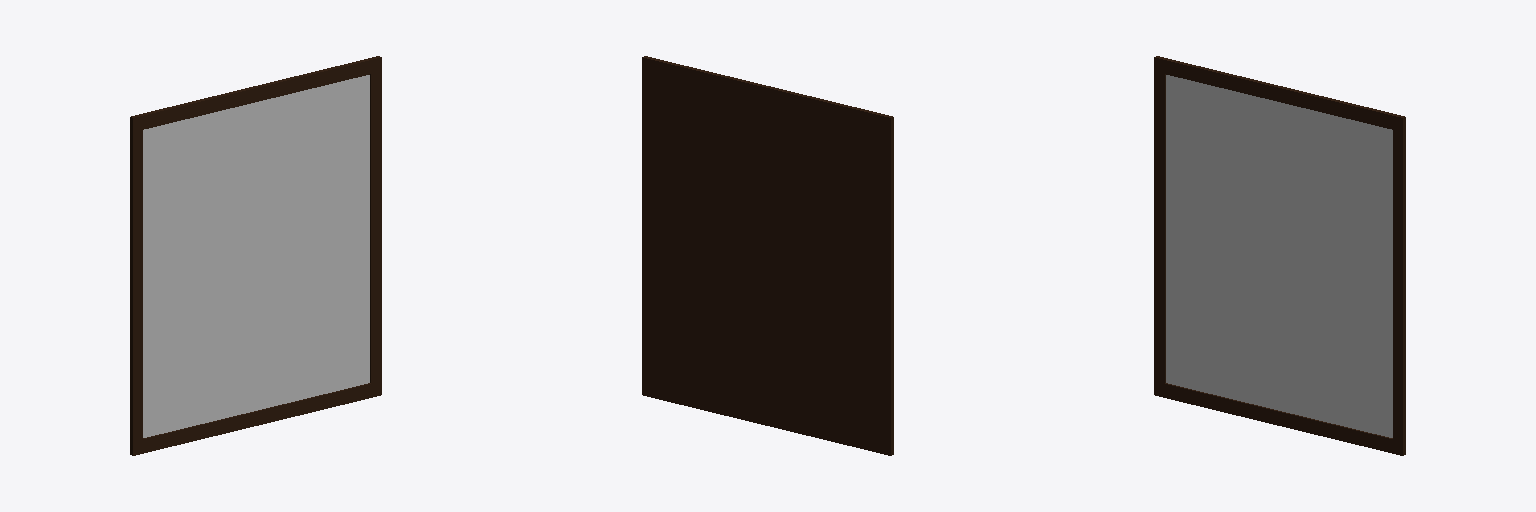
Rendered from pope_inocent.obj.
The picture shows the model from 3 angles: view 1: azimuth 30°, elevation 25°; view 2: azimuth 150°, elevation 25°; view 3: azimuth 330°, elevation 25°; orthographic projection.
Parts seen in each view (by area): view 1: Cube; view 2: Cube; view 3: Cube.
Part boxes in pixels (x1,y1,x2,y2): Cube: (130,56,381,455); Cube: (642,56,893,455); Cube: (1154,56,1405,455).
Bounding box in the file's own units: 1180 × 1530 × 18.5.